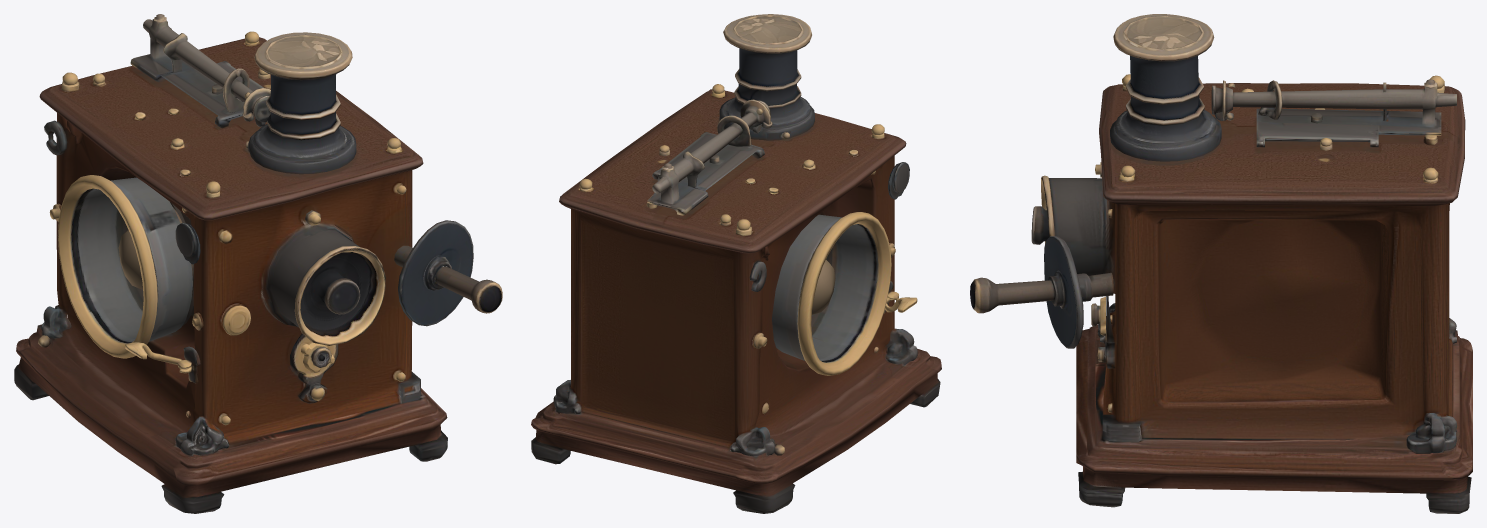
The model's file is magic-lantern.glb.
3 views of the same model, side by side, from view 1: azimuth 30°, elevation 25°; view 2: azimuth 150°, elevation 25°; view 3: azimuth 270°, elevation 25° (orthographic). The views are drawn at different scales.
Visible parts, largest first — view 1: tripo_9013893e_5ca7_4955_8ef0_beff7a3d09bf; view 2: tripo_9013893e_5ca7_4955_8ef0_beff7a3d09bf; view 3: tripo_9013893e_5ca7_4955_8ef0_beff7a3d09bf.
Part boxes in pixels (box(x1,y1,x2,y2)): tripo_9013893e_5ca7_4955_8ef0_beff7a3d09bf: box(14, 14, 502, 513); tripo_9013893e_5ca7_4955_8ef0_beff7a3d09bf: box(531, 14, 941, 513); tripo_9013893e_5ca7_4955_8ef0_beff7a3d09bf: box(970, 14, 1472, 513).
Bounding box in the file's own units: 0.7192 × 0.9321 × 0.9995.
1 material, 1 textured.
